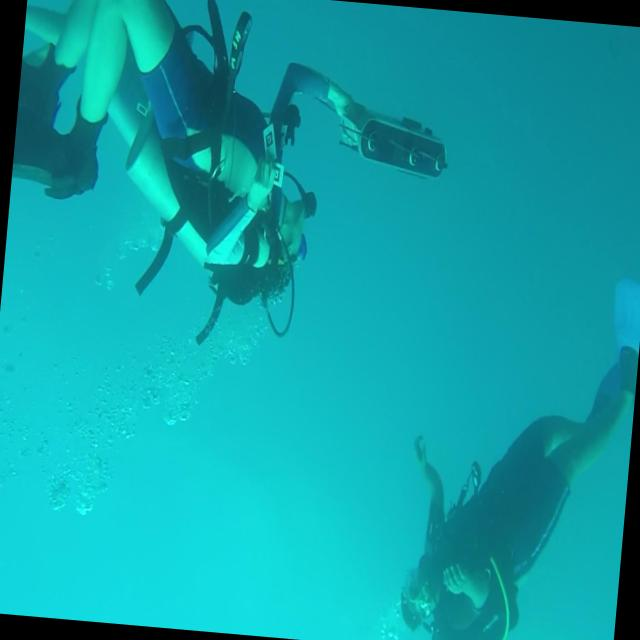human: (0, 0, 459, 365), (394, 261, 640, 640)
